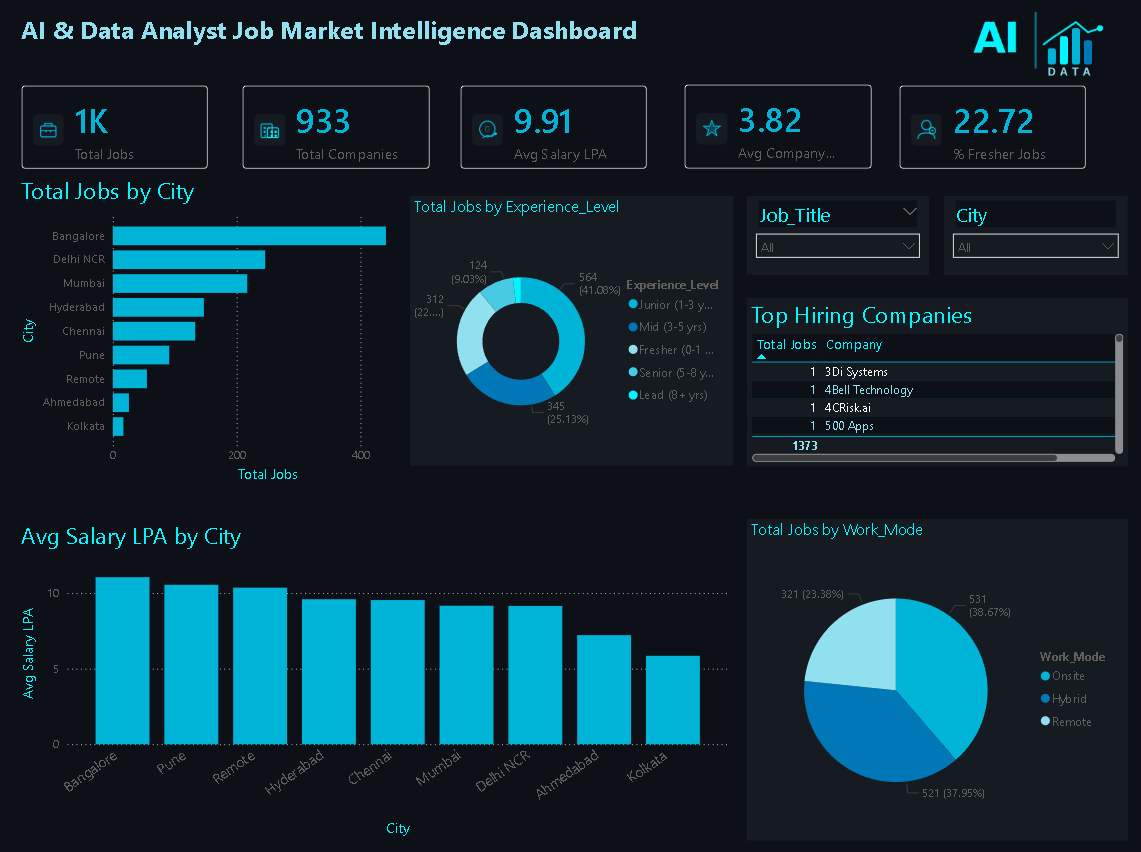

The page's visual inventory and layout, read from the dashboard file:
{"tool":"powerbi","page":{"name":"Page 1","canvas":[1280,960],"ordinal":0},"visuals":[{"type":"textbox","box":[20,10,1240,50],"z":0},{"type":"cardVisual","fields":{"Data":["chenni.Total Jobs"]},"box":[20.1,91.5,218.8,103.8],"z":1000},{"type":"cardVisual","fields":{"Data":["chenni.Total Companies"]},"box":[266.8,91.5,219.9,103.8],"z":2000},{"type":"cardVisual","fields":{"Data":["chenni.Avg Salary LPA"]},"box":[510.1,91.5,218.8,103.8],"z":3000},{"type":"cardVisual","fields":{"Data":["chenni.Avg Company Rating"]},"box":[760.2,90.4,219,104],"z":4000},{"type":"cardVisual","fields":{"Data":["chenni.% Fresher Jobs"]},"box":[1000.2,91.5,218.8,103.8],"z":5000},{"type":"clusteredBarChart","fields":{"Category":["chenni.City"],"Y":["chenni.Total Jobs"]},"box":[20.1,195.3,466.6,349.4],"z":6000},{"type":"donutChart","fields":{"Category":["chenni.Experience_Level"],"Y":["chenni.Total Jobs"]},"box":[458.8,219.9,360.6,301.4],"z":7000},{"type":"clusteredColumnChart","fields":{"Category":["chenni.City"],"Y":["chenni.Avg Salary LPA"]},"box":[20.1,580.5,799.3,359.4],"z":8000},{"type":"pieChart","fields":{"Y":["chenni.Total Jobs"],"Category":["chenni.Work_Mode"]},"box":[835,580.5,425.3,359.4],"z":9000},{"type":"slicer","fields":{"Values":["chenni.City"]},"box":[1054.9,219.9,205.4,88.2],"z":10000},{"type":"slicer","fields":{"Values":["chenni.Job_Title"]},"box":[835,219.9,203.2,88.2],"z":11000},{"type":"tableEx","title":"Top Hiring Companies","fields":{"Values":["chenni.Total Jobs","chenni.Company"]},"box":[835,333.8,425.3,187.5],"z":12000},{"type":"image","box":[1083.9,1.1,196.5,90.4],"z":13000}]}

Visuals, with their boxes in screenshot pixels (x1, y1, x2, y2), scaled from the page's 1280x960 canvas onto the 1141x852 screenshot:
textbox: bbox=(18, 9, 1123, 53)
cardVisual - chenni.Total Jobs: bbox=(18, 81, 213, 173)
cardVisual - chenni.Total Companies: bbox=(238, 81, 434, 173)
cardVisual - chenni.Avg Salary LPA: bbox=(455, 81, 650, 173)
cardVisual - chenni.Avg Company Rating: bbox=(678, 80, 873, 173)
cardVisual - chenni.% Fresher Jobs: bbox=(892, 81, 1087, 173)
clusteredBarChart - chenni.City x chenni.Total Jobs: bbox=(18, 173, 434, 483)
donutChart - chenni.Experience_Level x chenni.Total Jobs: bbox=(409, 195, 730, 463)
clusteredColumnChart - chenni.City x chenni.Avg Salary LPA: bbox=(18, 515, 730, 834)
pieChart - chenni.Total Jobs x chenni.Work_Mode: bbox=(744, 515, 1123, 834)
slicer - chenni.City: bbox=(940, 195, 1123, 273)
slicer - chenni.Job_Title: bbox=(744, 195, 925, 273)
"Top Hiring Companies" tableEx: bbox=(744, 296, 1123, 463)
image: bbox=(966, 1, 1140, 81)
